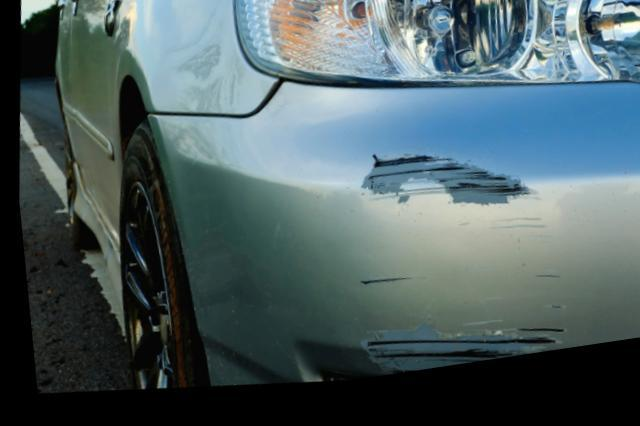scratch: (344, 156, 562, 385)
